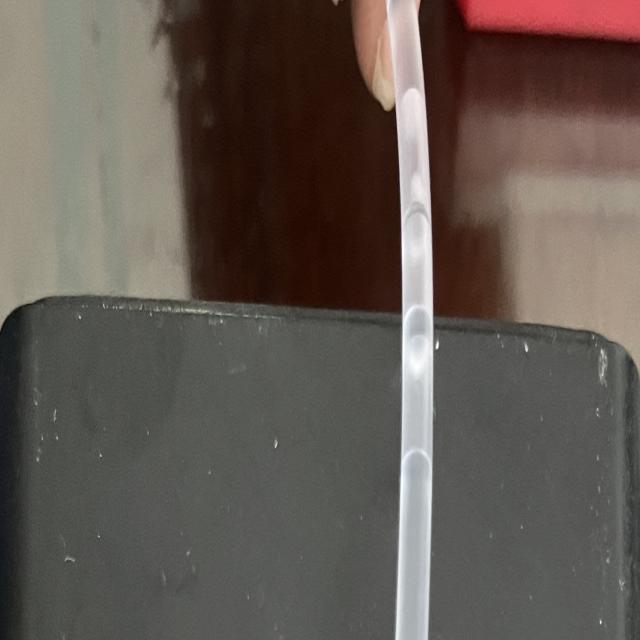bubble: (381, 318, 460, 474), (378, 90, 462, 220)
